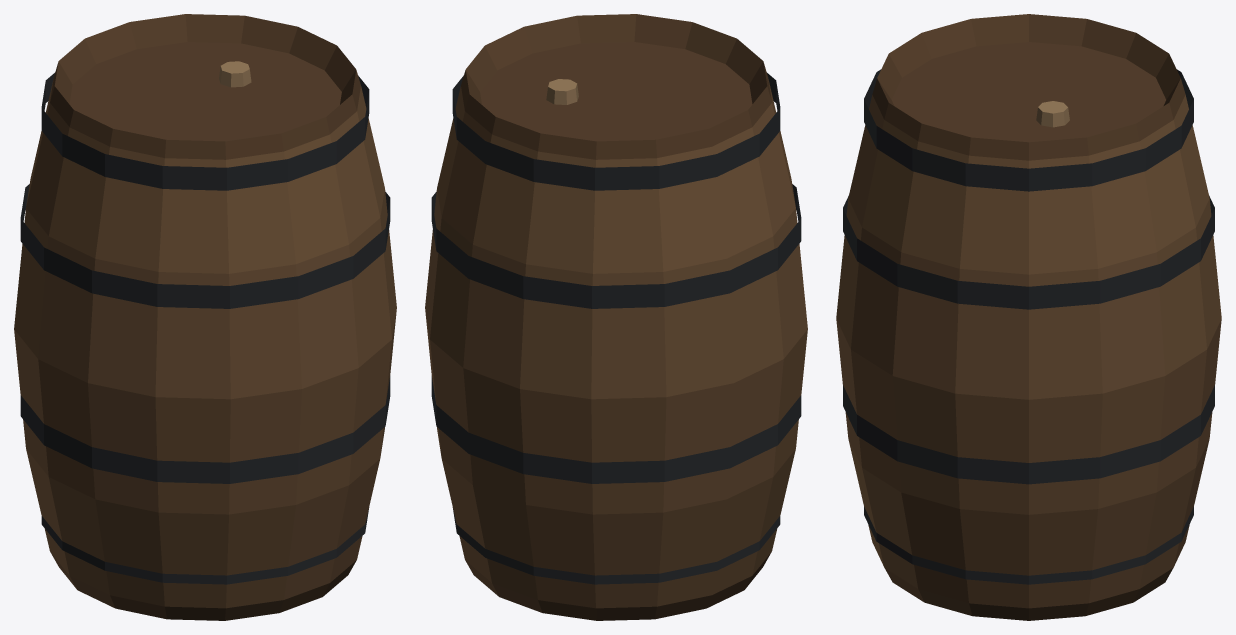
File: prop_barrel.glb
3 views of the same model, side by side, from view 1: azimuth 30°, elevation 25°; view 2: azimuth 150°, elevation 25°; view 3: azimuth 270°, elevation 25° (orthographic).
Parts seen in each view (by area): view 1: prop_barrel; view 2: prop_barrel; view 3: prop_barrel.
Boxes of the visible parts, x1,y1,x2,y2 form: prop_barrel: (14, 14, 396, 620); prop_barrel: (425, 14, 807, 620); prop_barrel: (836, 14, 1221, 620).
Bounding box in the file's own units: 0.64 × 0.88 × 0.64.
